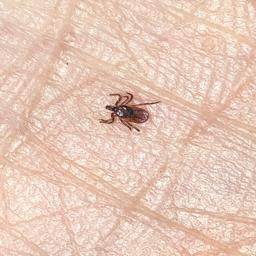Ixodes scapularis: (98, 93, 161, 132)
